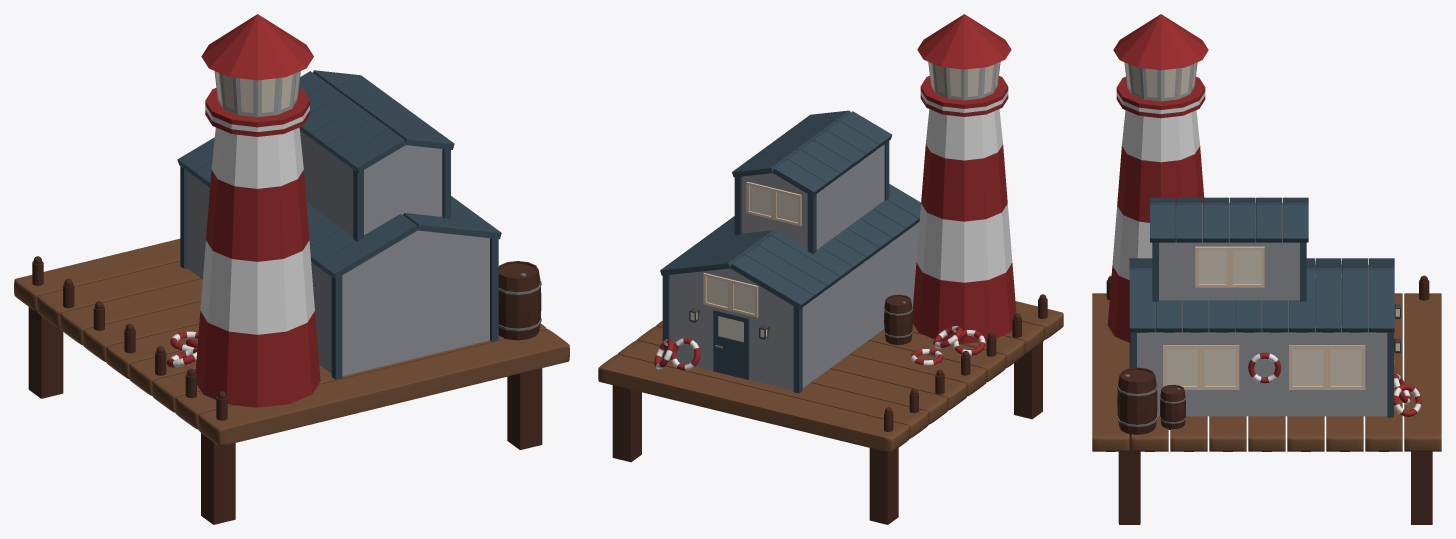
File: Deniz_Kenari_Bina.fbx
The picture shows the model from 3 angles, left to right: view 1: azimuth 30°, elevation 25°; view 2: azimuth 150°, elevation 25°; view 3: azimuth 270°, elevation 25°; orthographic projection. The views are drawn at different scales.
Visible parts, largest first — view 1: Circle, Cube, Cube.001, Cube.003, Cube.004, Cube.002, Circle.001, Cube.009, Cube.007, Cube.008, Cube.005, Circle.003 (+1 smaller); view 2: Circle, Cube, Cube.001, Cube.002, Cube.004, Cube.003, Plane.005, Cube.008, Cube.006, Cube.007, Plane.003, Plane.004 (+4 smaller); view 3: Cube, Circle, Cube.002, Cube.001, Cube.004, Cube.003, Plane.001, Plane, Plane.002, Circle.001, Cube.005, Cube.006 (+5 smaller).
Boxes of the visible parts, <box> form: Circle: <box>195,14,320,407</box>; Cube: <box>14,238,569,446</box>; Cube.001: <box>187,171,489,376</box>; Cube.003: <box>300,131,442,236</box>; Cube.004: <box>299,70,454,172</box>; Cube.002: <box>177,137,501,279</box>; Circle.001: <box>498,261,541,340</box>; Cube.009: <box>180,166,498,379</box>; Cube.007: <box>201,433,235,524</box>; Cube.008: <box>28,307,63,398</box>; Cube.005: <box>507,368,542,449</box>; Circle.003: <box>32,256,227,420</box>; Circle: <box>912,14,1016,343</box>; Cube: <box>598,301,1063,452</box>; Cube.001: <box>669,222,919,390</box>; Cube.002: <box>660,184,920,309</box>; Cube.004: <box>732,110,892,196</box>; Cube.003: <box>742,144,884,249</box>; Plane.005: <box>713,310,749,379</box>; Cube.008: <box>869,448,898,524</box>; Cube.006: <box>612,385,641,462</box>; Cube.007: <box>1014,342,1042,419</box>; Plane.003: <box>746,181,801,226</box>; Plane.004: <box>703,273,758,317</box>; Cube: <box>1092,293,1441,451</box>; Circle: <box>1107,14,1208,342</box>; Cube.002: <box>1129,258,1394,332</box>; Cube.001: <box>1137,264,1387,416</box>; Cube.004: <box>1150,197,1308,242</box>; Cube.003: <box>1159,203,1299,301</box>; Plane.001: <box>1289,345,1365,389</box>; Plane: <box>1163,345,1239,389</box>; Plane.002: <box>1195,246,1264,287</box>; Circle.001: <box>1117,367,1157,436</box>; Cube.005: <box>1118,436,1140,524</box>; Cube.006: <box>1411,451,1432,524</box>.
Size of the model in its own units: 1012 by 1306 by 1026.
